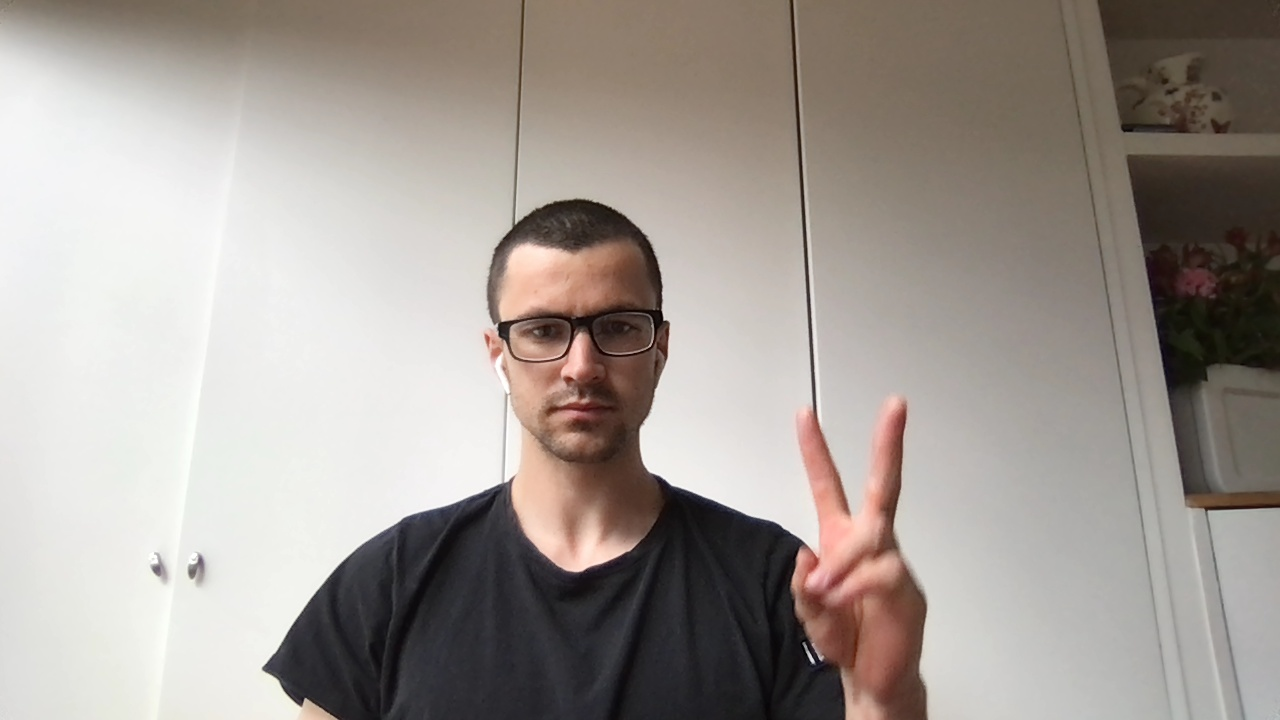peace: (790, 394, 927, 681)
